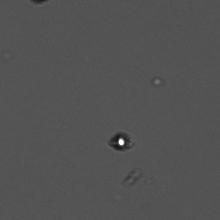Living Cell: (108, 127, 135, 153)
